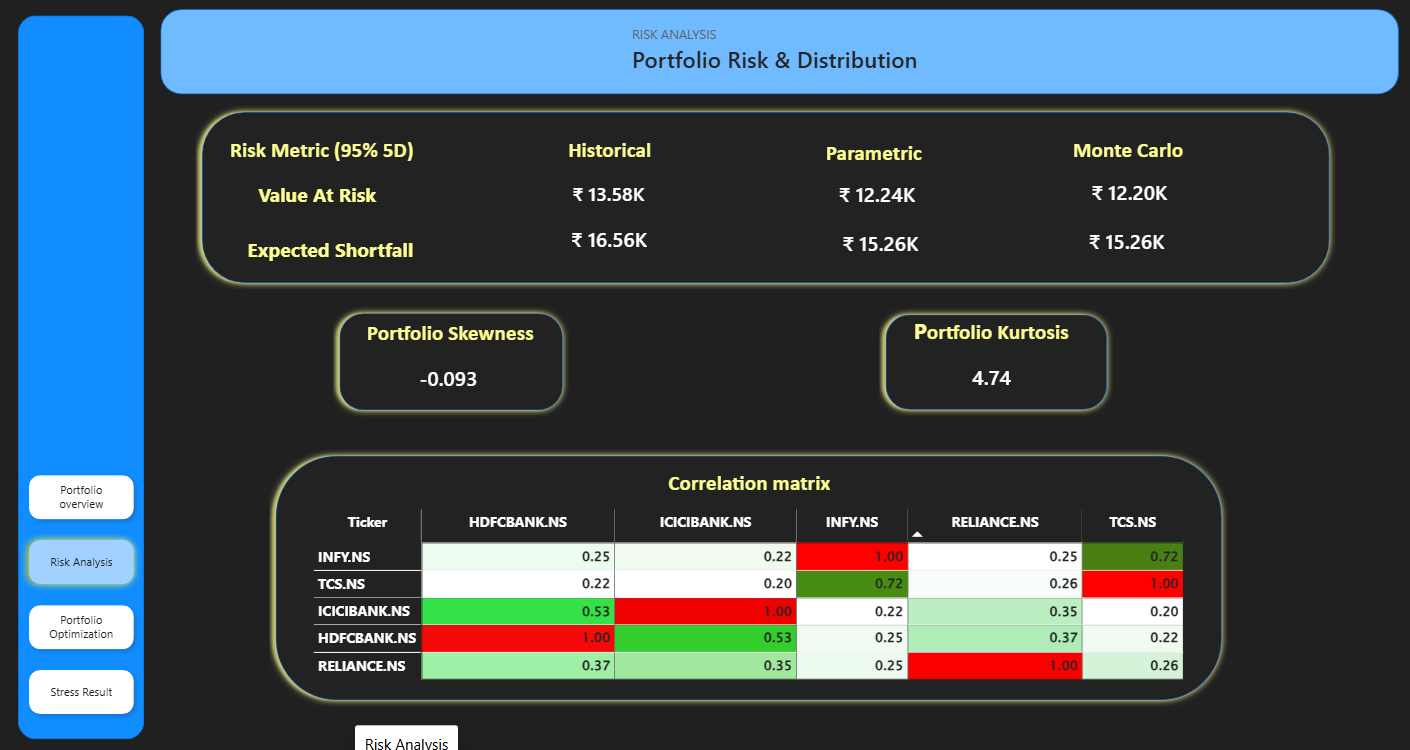

What the dashboard file says about the page in this screenshot:
{"tool":"powerbi","page":{"name":"Risk Analysis","canvas":[1770,950],"ordinal":1},"visuals":[{"type":"shape","box":[25,21.9,157.7,904.1],"z":0},{"type":"shape","box":[246.7,134.3,1424.6,229.9],"z":500},{"type":"shape","box":[202.6,14.5,1546.8,106.1],"z":750},{"type":"cardVisual","fields":{"Data":["public portfolio1.RISK ANALYSIS"]},"box":[776.6,14.5,453.9,101.8],"z":1000},{"type":"textbox","box":[218.6,172.8,372,56.4],"z":2000},{"type":"textbox","box":[218.7,229.3,360.3,136],"z":3000},{"type":"textbox","box":[608.2,172.8,310.3,56.4],"z":4000},{"type":"textbox","box":[952.5,176.4,289.1,56.4],"z":5000},{"type":"textbox","box":[1292.8,173.3,243.6,56.2],"z":6000},{"type":"cardVisual","fields":{"Data":["Sum(public var_es_results.historical_var)"]},"box":[713.9,217.1,98.1,53.1],"z":7000},{"type":"cardVisual","fields":{"Data":["Sum(public var_es_results.historical_es)"]},"box":[696.4,273.2,134.3,56.2],"z":8000},{"type":"cardVisual","fields":{"Data":["Sum(public var_es_results.parametric_var)"]},"box":[1030.5,217,135.8,56.2],"z":9000},{"type":"cardVisual","fields":{"Data":["Sum(public var_es_results.monte_carlo_es)"]},"box":[1038.3,279.5,128,51.5],"z":10000},{"type":"cardVisual","fields":{"Data":["Sum(public var_es_results.monte_carlo_var)"]},"box":[1344.4,204.5,139,73.4],"z":11000},{"type":"cardVisual","fields":{"Data":["Sum(public var_es_results.monte_carlo_es)"]},"box":[1344.4,277.9,131.2,51.5],"z":12000},{"type":"shape","box":[418.5,385.7,295.1,137.4],"z":12500},{"type":"textbox","box":[442.2,402,245.9,48.8],"z":13000},{"type":"cardVisual","fields":{"Data":["Sum(public portfolio_summary.portfolio_skewness)"]},"box":[509.7,447,107.7,54.7],"z":14000},{"type":"shape","box":[1101.4,387.5,292.6,135.1],"z":14500},{"type":"shape","box":[339.3,564.4,1197.9,321.6],"z":14750},{"type":"textbox","box":[1101.4,397.2,279.8,57.9],"z":15000},{"type":"cardVisual","fields":{"Data":["Sum(public portfolio_summary.portfolio_kurtosis)"]},"box":[1201.1,455,91.7,38.6],"z":16000},{"type":"pivotTable","title":"Correlation matrix","fields":{"Columns":["public correlation_matrix.ticker"],"Rows":["public correlation_matrix.ticker"],"Values":["Sum(public correlation_matrix.HDFCBANK.NS)","Sum(public correlation_matrix.ICICIBANK.NS)","Sum(public correlation_matrix.INFY.NS)","Sum(public correlation_matrix.RELIANCE.NS)","Sum(public correlation_matrix.TCS.NS)"]},"box":[377.9,574.6,1121.1,299.8],"z":17000},{"type":"pageNavigator","box":[29.7,587.1,149.2,318.5],"z":17001}]}

Visuals, with their boxes on the page's 1770x950 design canvas (x1, y1, x2, y2). These are canvas units, not pixel positions in the 1410x750 screenshot, which may show the page scaled, cropped or inside an application window:
shape: <box>25,22,183,926</box>
shape: <box>247,134,1671,364</box>
shape: <box>203,14,1749,121</box>
cardVisual - public portfolio1.RISK ANALYSIS: <box>777,14,1230,116</box>
textbox: <box>219,173,591,229</box>
textbox: <box>219,229,579,365</box>
textbox: <box>608,173,918,229</box>
textbox: <box>952,176,1242,233</box>
textbox: <box>1293,173,1536,230</box>
cardVisual - Sum(public var_es_results.historical_var): <box>714,217,812,270</box>
cardVisual - Sum(public var_es_results.historical_es): <box>696,273,831,329</box>
cardVisual - Sum(public var_es_results.parametric_var): <box>1030,217,1166,273</box>
cardVisual - Sum(public var_es_results.monte_carlo_es): <box>1038,280,1166,331</box>
cardVisual - Sum(public var_es_results.monte_carlo_var): <box>1344,204,1483,278</box>
cardVisual - Sum(public var_es_results.monte_carlo_es): <box>1344,278,1476,329</box>
shape: <box>418,386,714,523</box>
textbox: <box>442,402,688,451</box>
cardVisual - Sum(public portfolio_summary.portfolio_skewness): <box>510,447,617,502</box>
shape: <box>1101,388,1394,523</box>
shape: <box>339,564,1537,886</box>
textbox: <box>1101,397,1381,455</box>
cardVisual - Sum(public portfolio_summary.portfolio_kurtosis): <box>1201,455,1293,494</box>
"Correlation matrix" pivotTable: <box>378,575,1499,874</box>
pageNavigator: <box>30,587,179,906</box>
